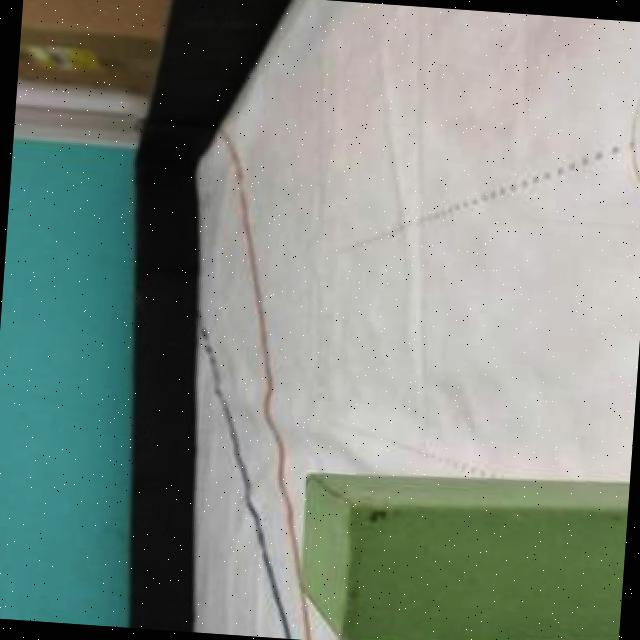greenbox: (284, 455, 629, 640)
